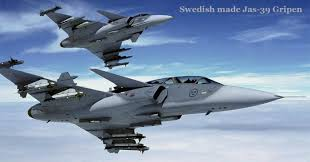fighter: (1, 54, 285, 157), (36, 4, 174, 70)
